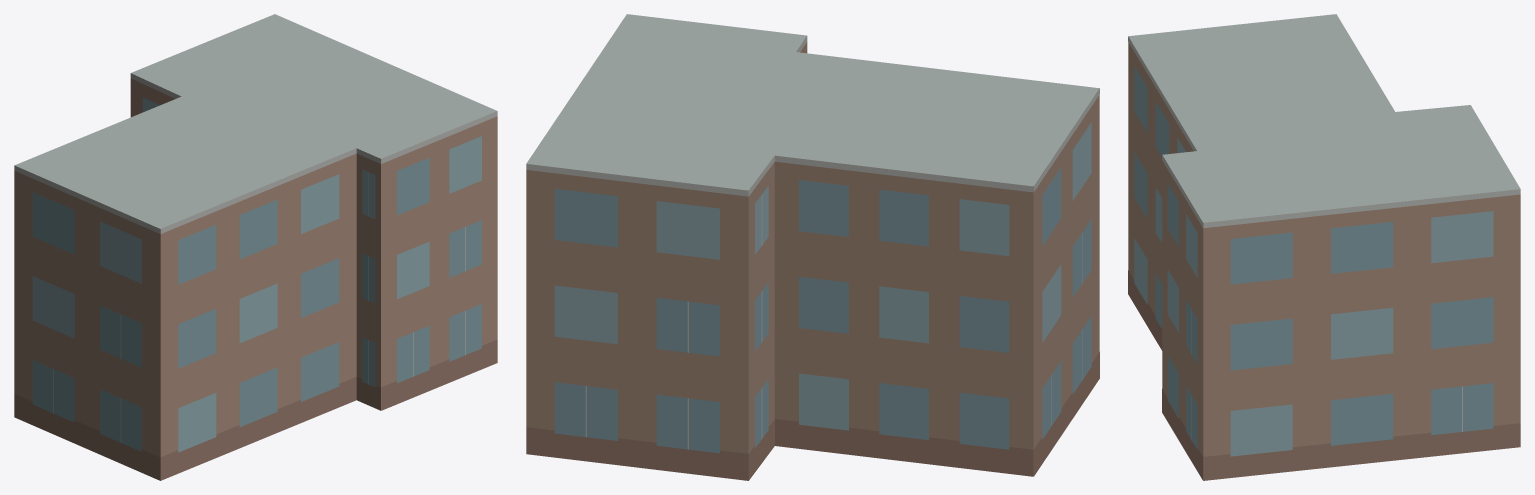
File: survey-upis-32472811.glb
The picture shows the model from 3 angles, left to right: view 1: azimuth 30°, elevation 25°; view 2: azimuth 150°, elevation 25°; view 3: azimuth 270°, elevation 25°; orthographic projection. The views are drawn at different scales.
Visible parts, largest first — view 1: survey-upis-32472811.tmp; view 2: survey-upis-32472811.tmp; view 3: survey-upis-32472811.tmp.
Part boxes in pixels (x1,y1,x2,y2): survey-upis-32472811.tmp: (14, 14, 497, 480); survey-upis-32472811.tmp: (526, 14, 1099, 480); survey-upis-32472811.tmp: (1128, 14, 1520, 480).
Size of the model in its own units: 20.54 by 11.82 by 16.31.
